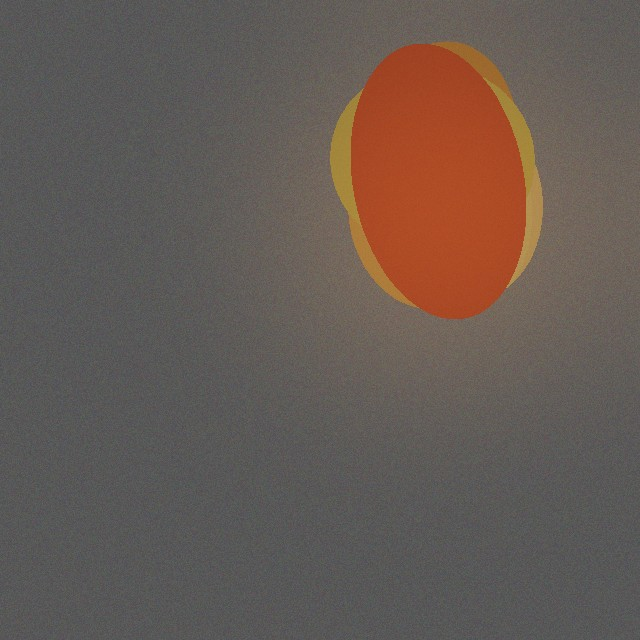fire: (375, 107, 505, 329)
